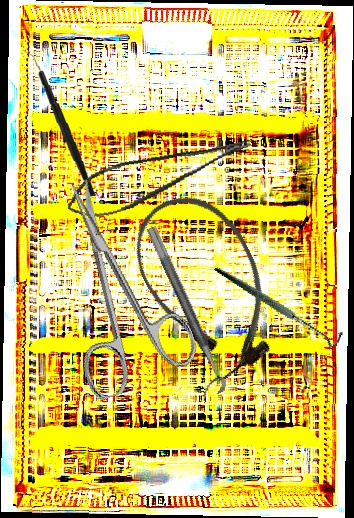Cannula: (116, 177, 297, 392)
Chopper: (20, 46, 97, 200)
Fixation Ring: (131, 225, 230, 400)
Hook Surgical: (214, 229, 347, 379)
Iris Scissors: (28, 163, 204, 403)
Micro Scissor: (60, 132, 260, 226)
